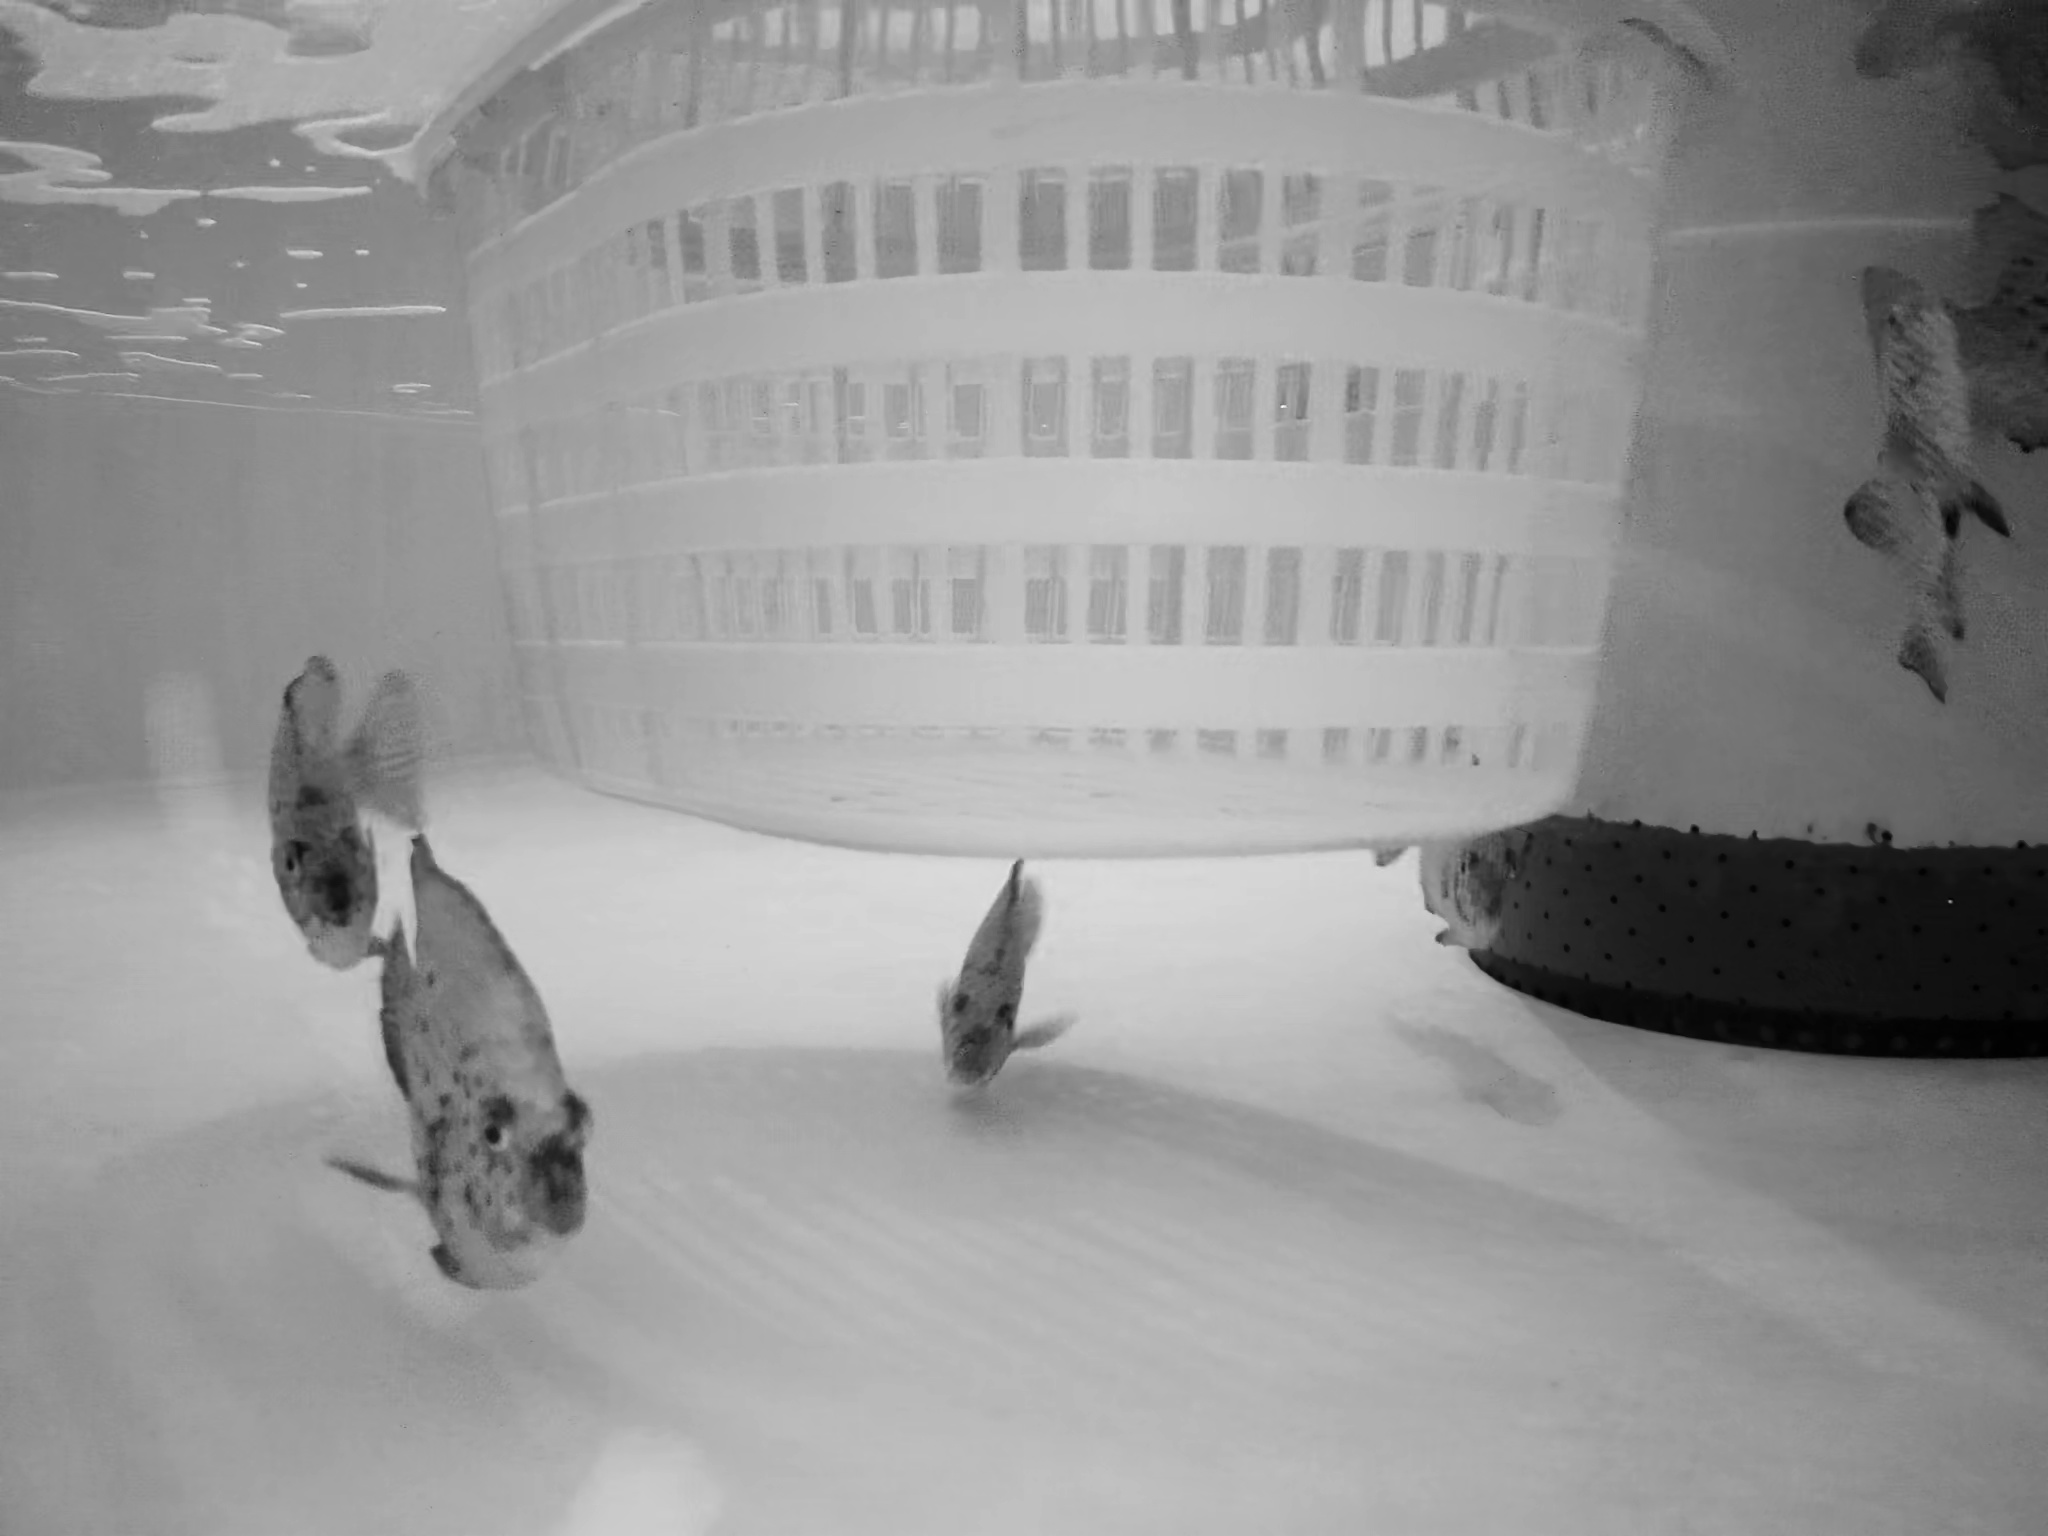fish: (363, 831, 589, 1302), (1842, 248, 2000, 689), (247, 644, 423, 939), (932, 857, 1074, 1091), (1963, 181, 2048, 447), (1400, 816, 1526, 952)
